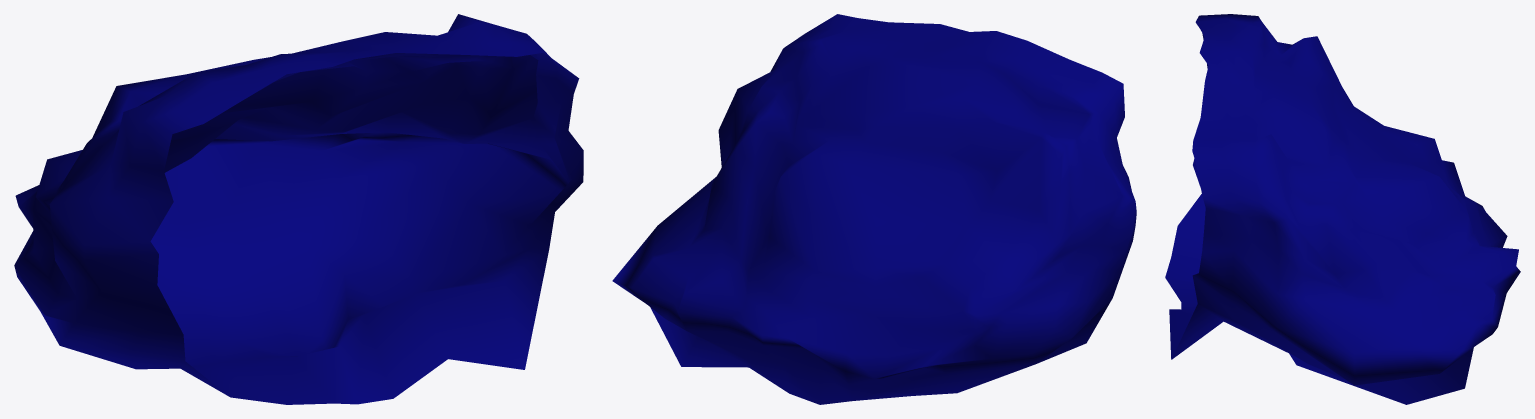
Rendered from ExperimentalWall01_mesh.fbx.
The picture shows the model from 3 angles, left to right: view 1: azimuth 30°, elevation 25°; view 2: azimuth 150°, elevation 25°; view 3: azimuth 270°, elevation 25°; orthographic projection. The views are drawn at different scales.
Parts seen in each view (by area): view 1: ExperimentalWall01_mesh; view 2: ExperimentalWall01_mesh; view 3: ExperimentalWall01_mesh.
Boxes of the visible parts, box(x1,y1,x2,y2) form: ExperimentalWall01_mesh: box(14, 14, 583, 404); ExperimentalWall01_mesh: box(612, 14, 1136, 404); ExperimentalWall01_mesh: box(1165, 14, 1520, 404).
Bounding box in the file's own units: 19.41 × 12.82 × 14.27.
